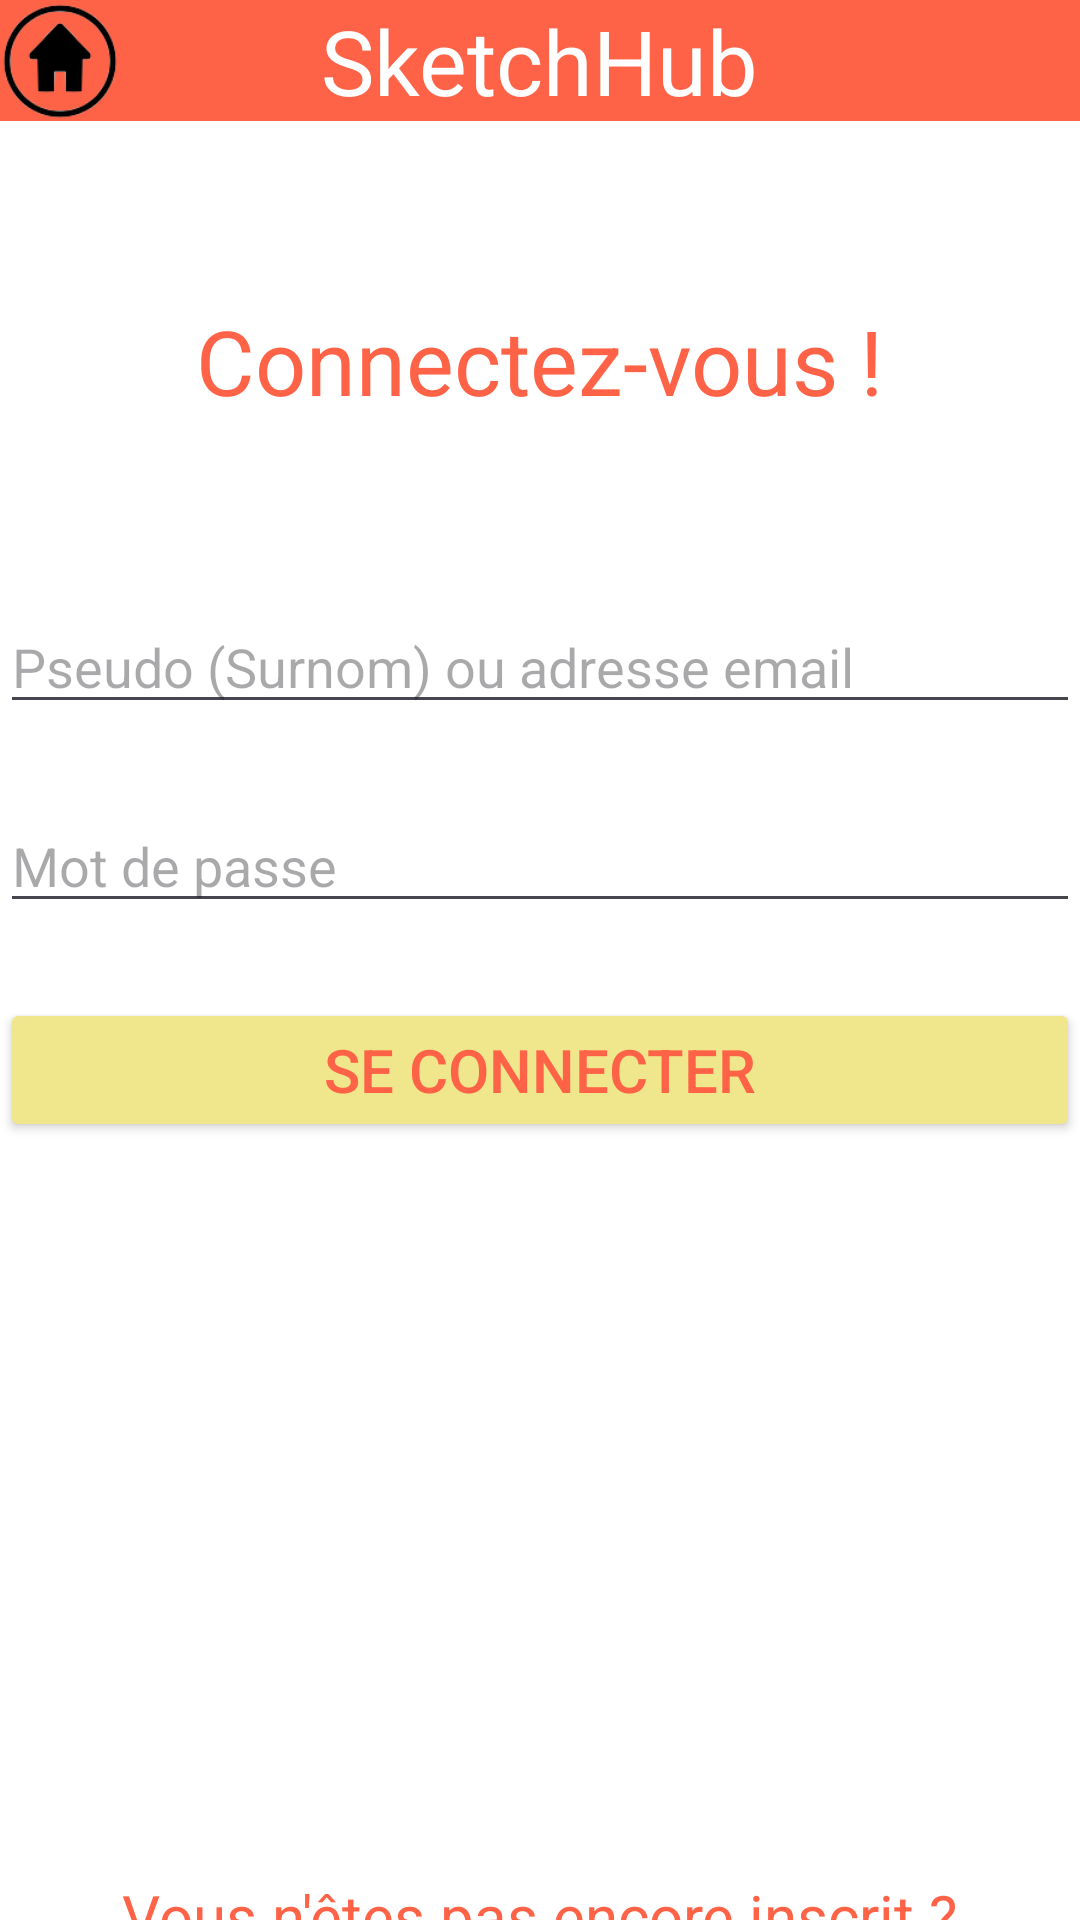

Screen size 1080 x 1920. Icon name, then its center in pixels as (x,y):
home: (60,61)
